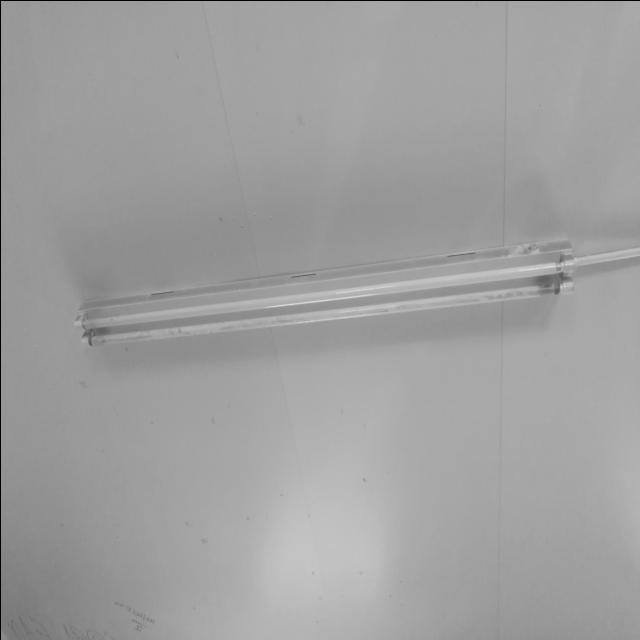light: (73, 236, 576, 346)
